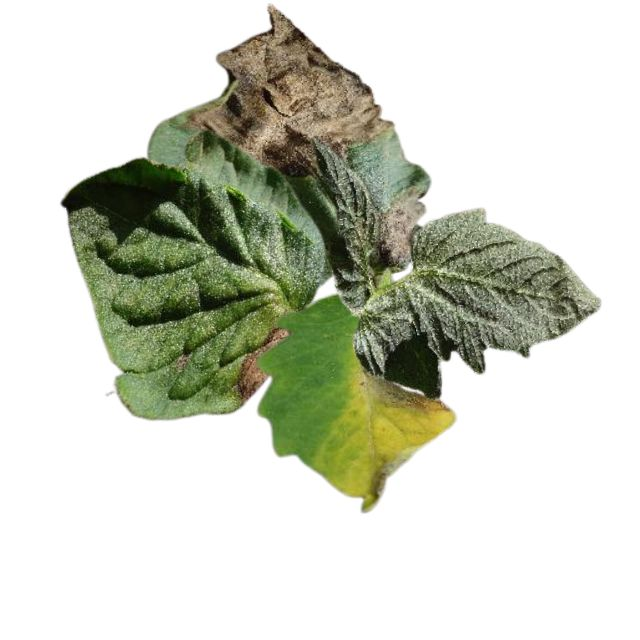Late_blight: (181, 4, 394, 177), (375, 183, 427, 273), (236, 326, 290, 401), (359, 372, 453, 415), (357, 448, 418, 514), (170, 346, 190, 372)
